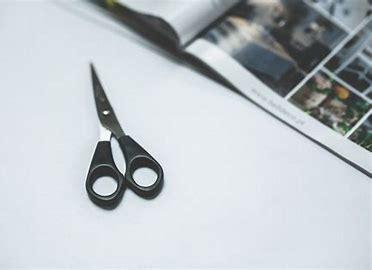scissors: (85, 63, 163, 211)
